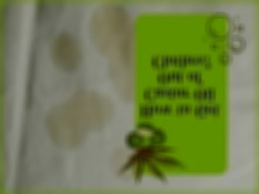oil: (36, 88, 117, 152), (92, 9, 134, 102), (50, 31, 92, 74)
